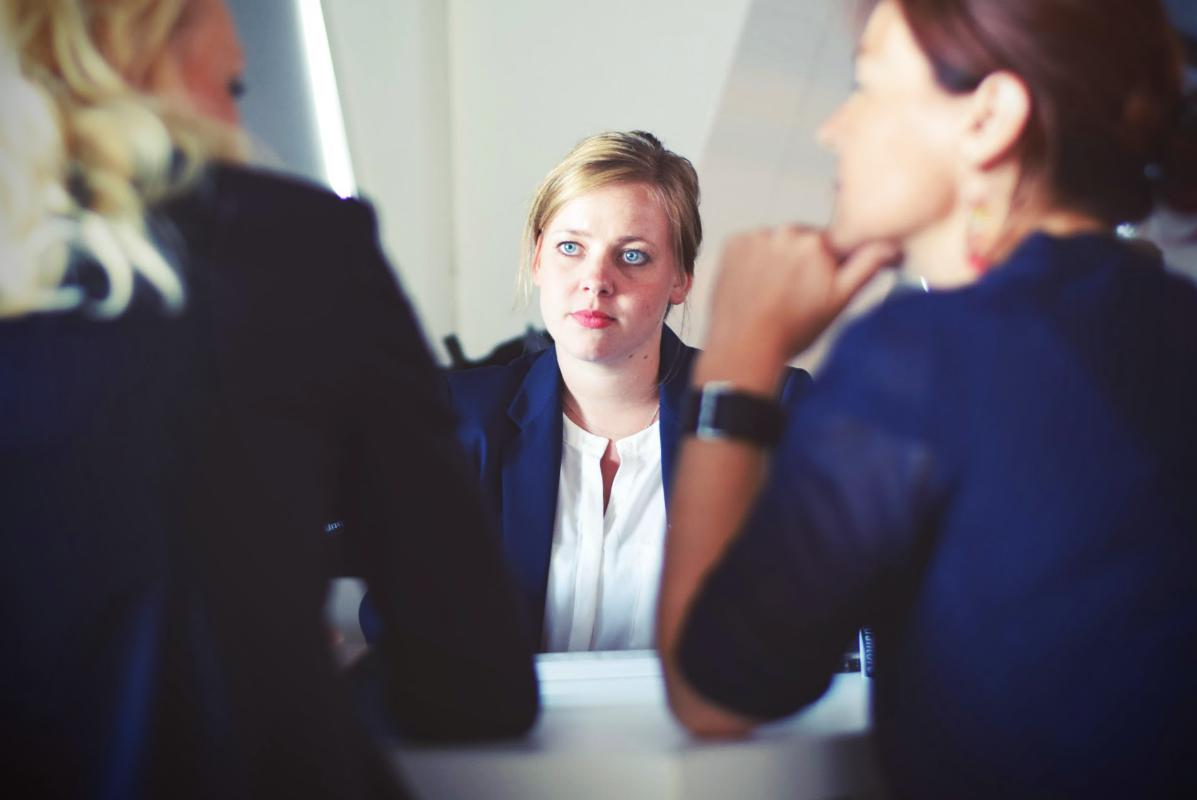Person: (10, 3, 548, 800), (668, 6, 1189, 800), (425, 114, 714, 628)
